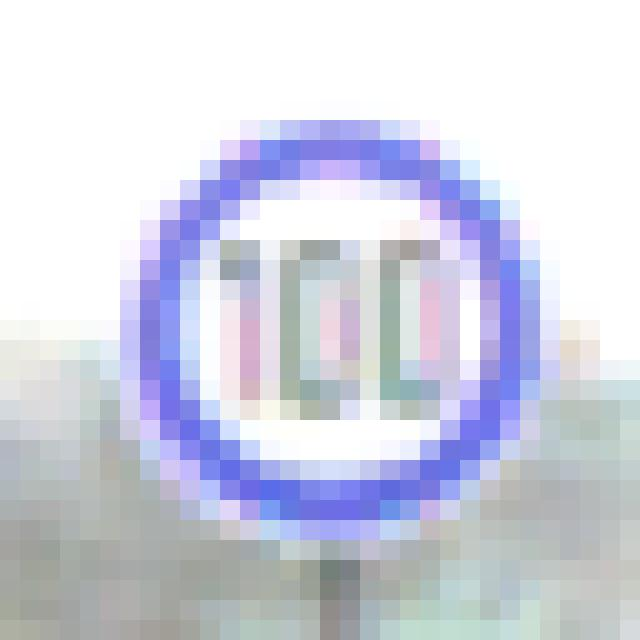SPEED LIMIT 100: (125, 119, 540, 546)
